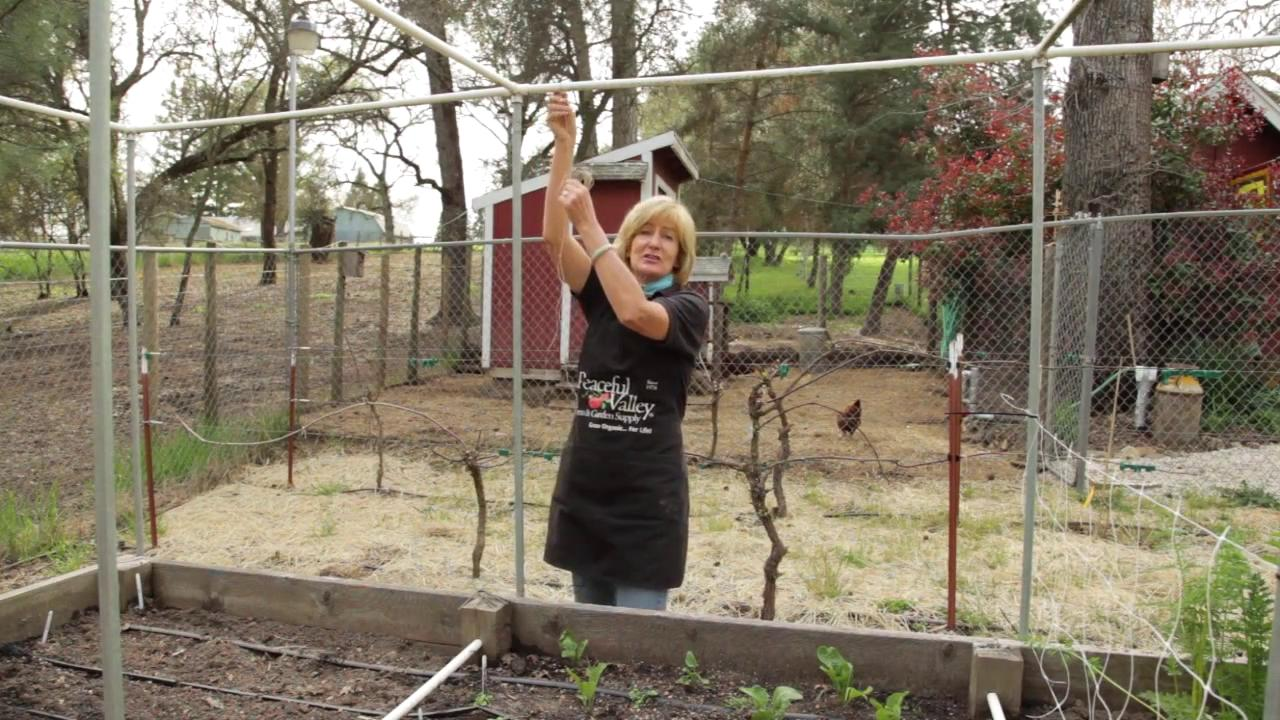victim: (537, 82, 710, 637)
